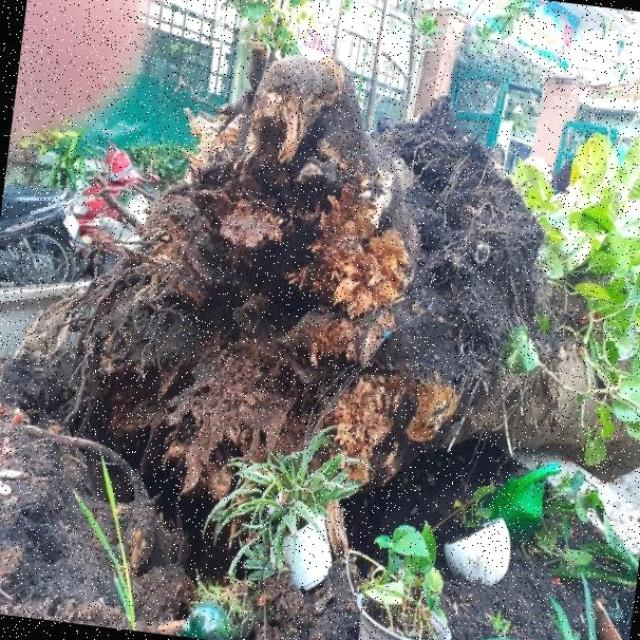fallen_object: (60, 12, 640, 640)
